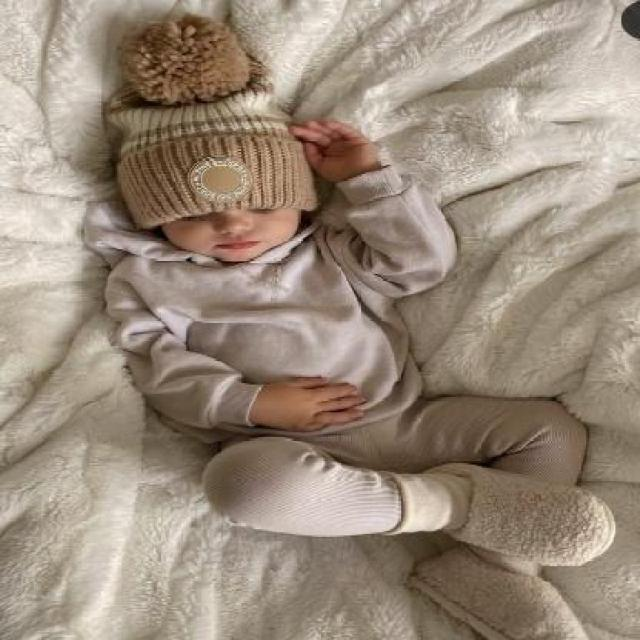baby: (82, 9, 612, 638)
